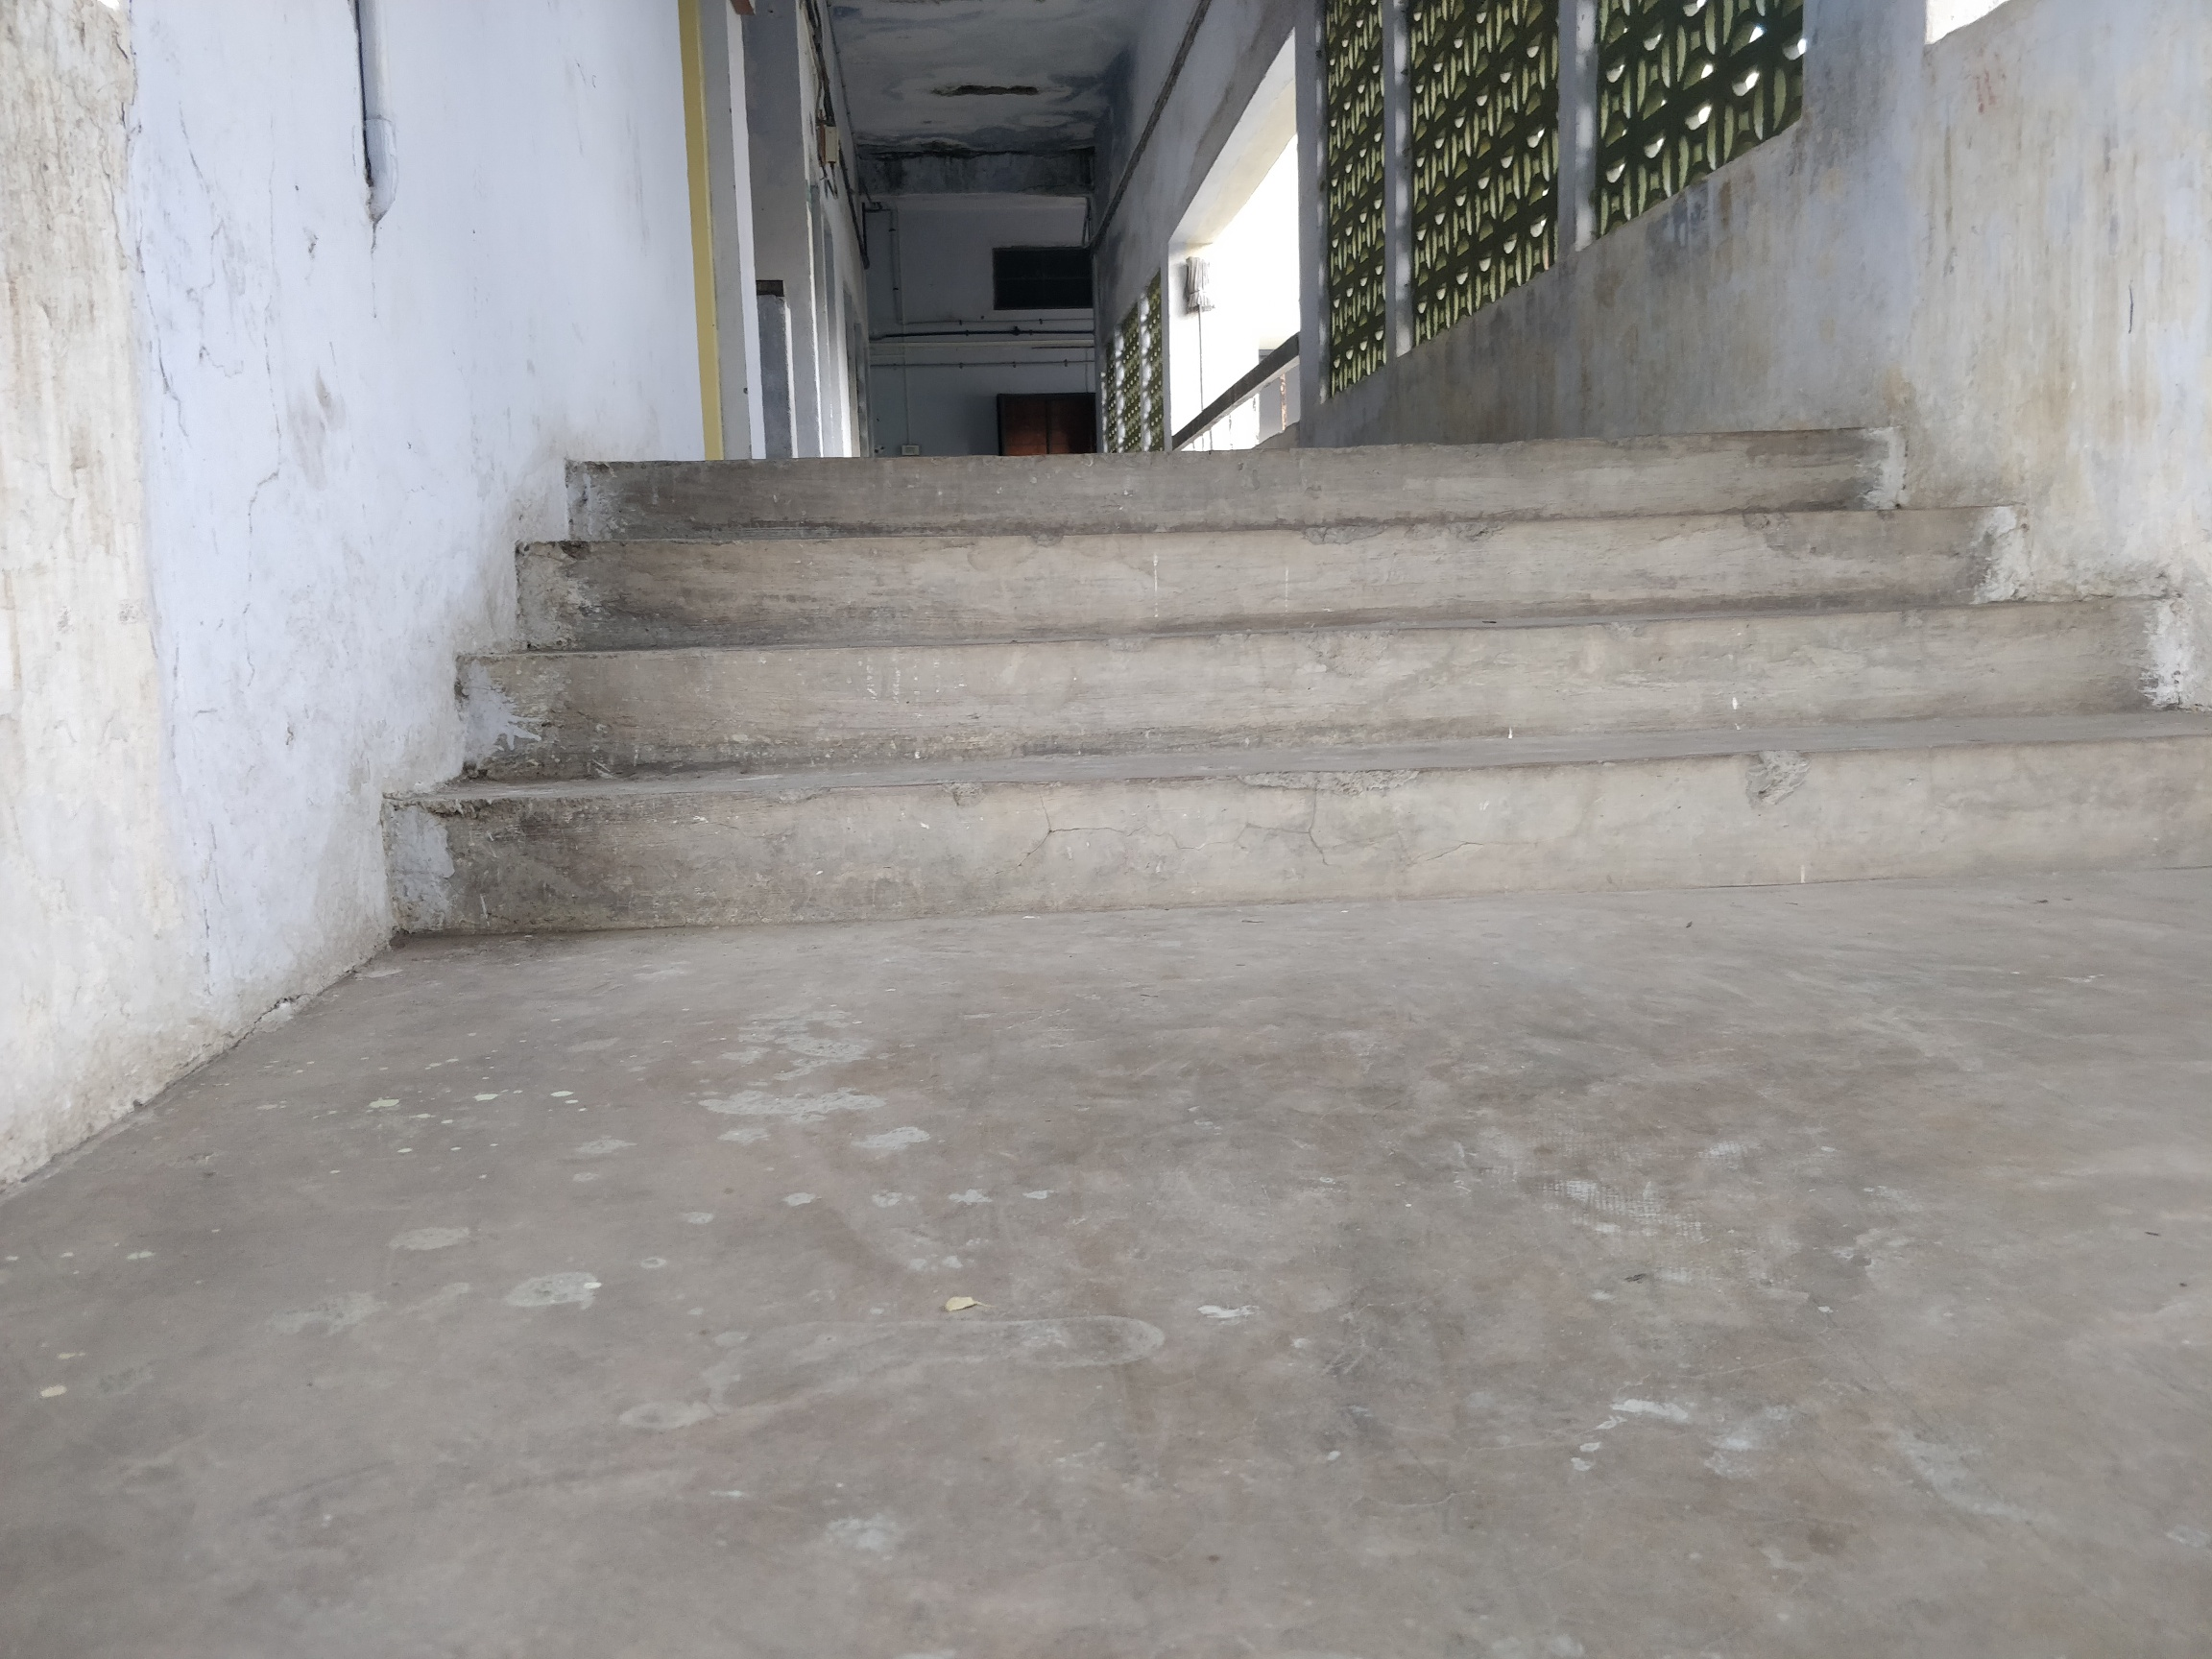stairs_up: (381, 444, 2210, 896)
